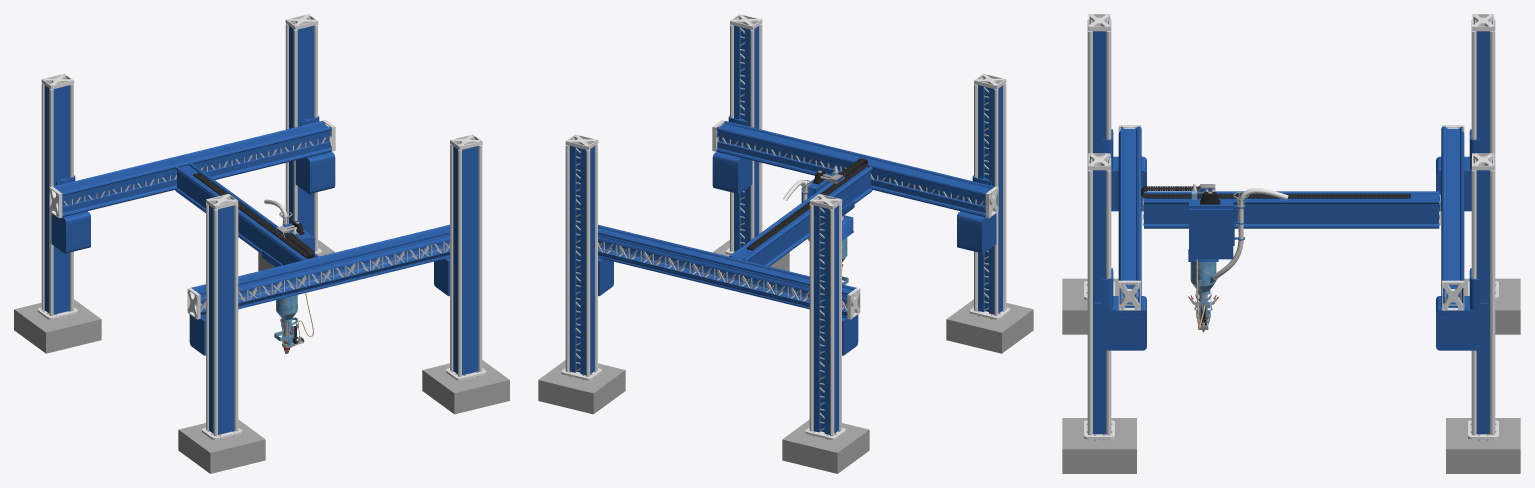
Rendered from printer.gltf.
3 views of the same model, side by side, from view 1: azimuth 30°, elevation 25°; view 2: azimuth 150°, elevation 25°; view 3: azimuth 270°, elevation 25° (orthographic). The views are drawn at different scales.
Parts seen in each view (by area): view 1: HorizontalBar2.002, HorizontalBarCover.ORIGINAL.003, HorizontalBarCover.ORIGINAL.001, HorizontalBar2, HorizontalBarCover.ORIGINAL.006, HorizontalBarCover.ORIGINAL.004, Stelze.001, Stelze.002, Stelze.004, HorizontalBar, Plane.003, Plane.002 (+6 smaller); view 2: HorizontalBar2, HorizontalBarCover.ORIGINAL.006, HorizontalBarCover.ORIGINAL.004, HorizontalBar2.002, HorizontalBarCover.ORIGINAL.003, HorizontalBarCover.ORIGINAL.001, Stelze.003, Stelze.004, Stelze.002, HorizontalBar, Plane.001, KastenVertical (+6 smaller); view 3: HorizontalBar, HorizontalBarCover.ORIGINAL.001, HorizontalBarCover.ORIGINAL.004, HorizontalBar2.002, HorizontalBar2, Stelze.001, Stelze.003, HorizontalBarCover.ORIGINAL.003, HorizontalBarCover.ORIGINAL.006, ConcretePrinter, KastenVertical, Plane.002 (+9 smaller).
Part boxes in pixels (<box>): HorizontalBar2.002: <box>53,120,331,217</box>; HorizontalBarCover.ORIGINAL.003: <box>206,203,238,436</box>; HorizontalBarCover.ORIGINAL.001: <box>450,144,482,376</box>; HorizontalBar2: <box>191,224,449,318</box>; HorizontalBarCover.ORIGINAL.006: <box>41,83,73,316</box>; HorizontalBarCover.ORIGINAL.004: <box>285,23,317,251</box>; Stelze.001: <box>422,360,509,414</box>; Stelze.002: <box>178,419,265,473</box>; Stelze.004: <box>14,299,101,353</box>; HorizontalBar: <box>175,163,318,265</box>; Plane.003: <box>51,175,90,253</box>; Plane.002: <box>295,116,335,193</box>; HorizontalBar2: <box>716,121,994,217</box>; HorizontalBarCover.ORIGINAL.006: <box>809,203,841,436</box>; HorizontalBarCover.ORIGINAL.004: <box>565,144,597,376</box>; HorizontalBar2.002: <box>598,224,856,318</box>; HorizontalBarCover.ORIGINAL.003: <box>974,83,1006,316</box>; HorizontalBarCover.ORIGINAL.001: <box>730,24,762,251</box>; Stelze.003: <box>538,360,625,414</box>; Stelze.004: <box>782,419,869,473</box>; Stelze.002: <box>946,299,1033,353</box>; HorizontalBar: <box>729,166,872,266</box>; Plane.001: <box>957,175,996,253</box>; KastenVertical: <box>712,116,752,193</box>; HorizontalBar: <box>1144,191,1439,228</box>; HorizontalBarCover.ORIGINAL.001: <box>1087,158,1111,435</box>; HorizontalBarCover.ORIGINAL.004: <box>1471,158,1495,435</box>; HorizontalBar2.002: <box>1441,126,1464,307</box>; HorizontalBar2: <box>1118,126,1141,307</box>; Stelze.001: <box>1062,418,1136,473</box>; Stelze.003: <box>1446,418,1520,473</box>; HorizontalBarCover.ORIGINAL.003: <box>1087,19,1111,158</box>; HorizontalBarCover.ORIGINAL.006: <box>1471,19,1495,158</box>; ConcretePrinter: <box>1188,188,1234,261</box>; KastenVertical: <box>1094,268,1146,350</box>; Plane.002: <box>1436,268,1488,350</box>.
Bounding box in the file's own units: 17.93 × 14.62 × 20.35.
Materials: 14 (1 with a texture image).
